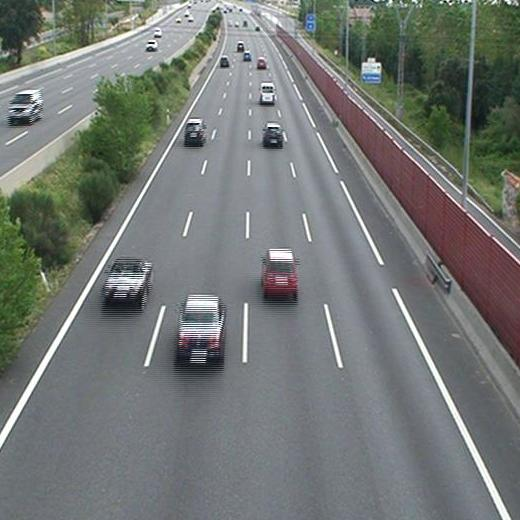car: (178, 295, 224, 357), (103, 260, 151, 298), (262, 250, 297, 295), (184, 119, 204, 141), (263, 124, 282, 143), (257, 58, 267, 67), (242, 51, 251, 60), (220, 57, 229, 66)
van: (261, 82, 275, 103)
